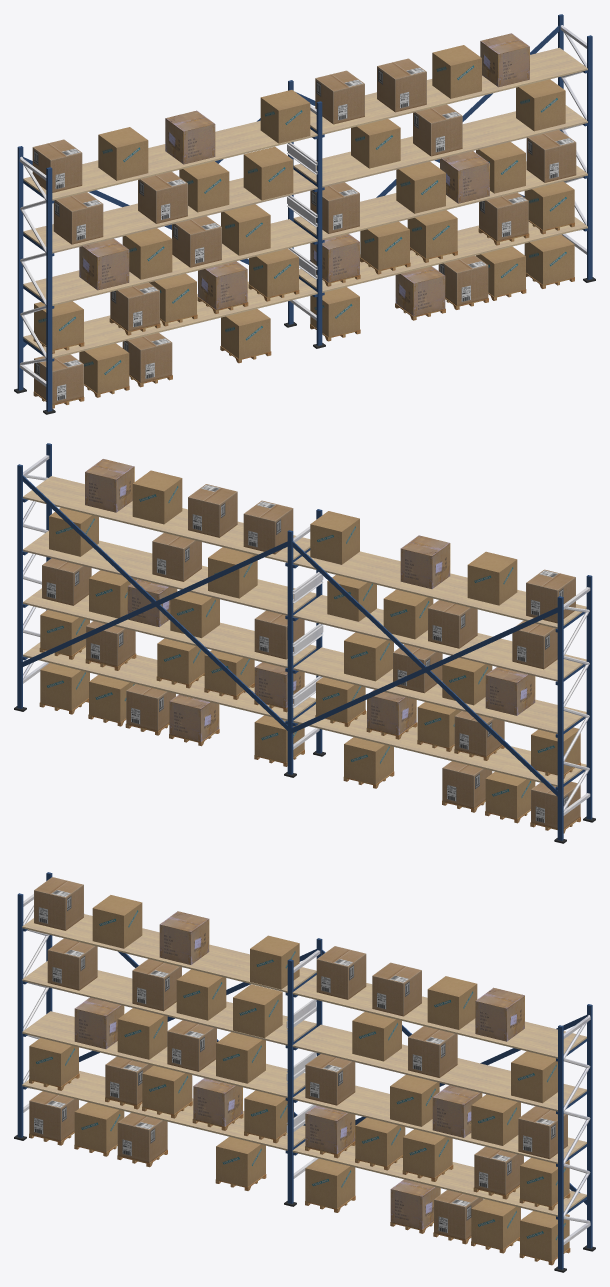
The model's file is BigShelves01Group3.FBX.
The picture shows the model from 3 angles, top to bottom: view 1: azimuth 30°, elevation 25°; view 2: azimuth 150°, elevation 25°; view 3: azimuth 330°, elevation 25°; orthographic projection.
Parts seen in each view (by area): view 1: Cardboard_box08, Cardboard_box07, BigShelves01, BigShelvesWoodBox; view 2: BigShelves01, Cardboard_box08, Cardboard_box07, BigShelvesWoodBox; view 3: Cardboard_box08, Cardboard_box07, BigShelves01, BigShelvesWoodBox.
Boxes of the visible parts, box(x1,y1,x2,y2) form: Cardboard_box08: box(34, 45, 574, 393); Cardboard_box07: box(32, 33, 576, 404); BigShelves01: box(14, 14, 595, 414); BigShelvesWoodBox: box(33, 220, 574, 408); BigShelves01: box(14, 443, 595, 843); Cardboard_box08: box(40, 470, 580, 818); Cardboard_box07: box(42, 459, 580, 828); BigShelvesWoodBox: box(39, 645, 580, 833); Cardboard_box08: box(29, 895, 569, 1261); Cardboard_box07: box(29, 877, 567, 1240); BigShelves01: box(14, 872, 595, 1272); BigShelvesWoodBox: box(29, 1073, 570, 1265).
Size of the model in its own units: 699 by 299 by 71.51.
